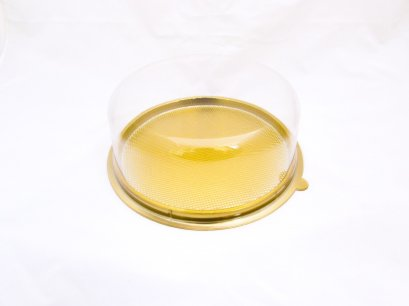PlasticBox: (96, 47, 314, 233)
